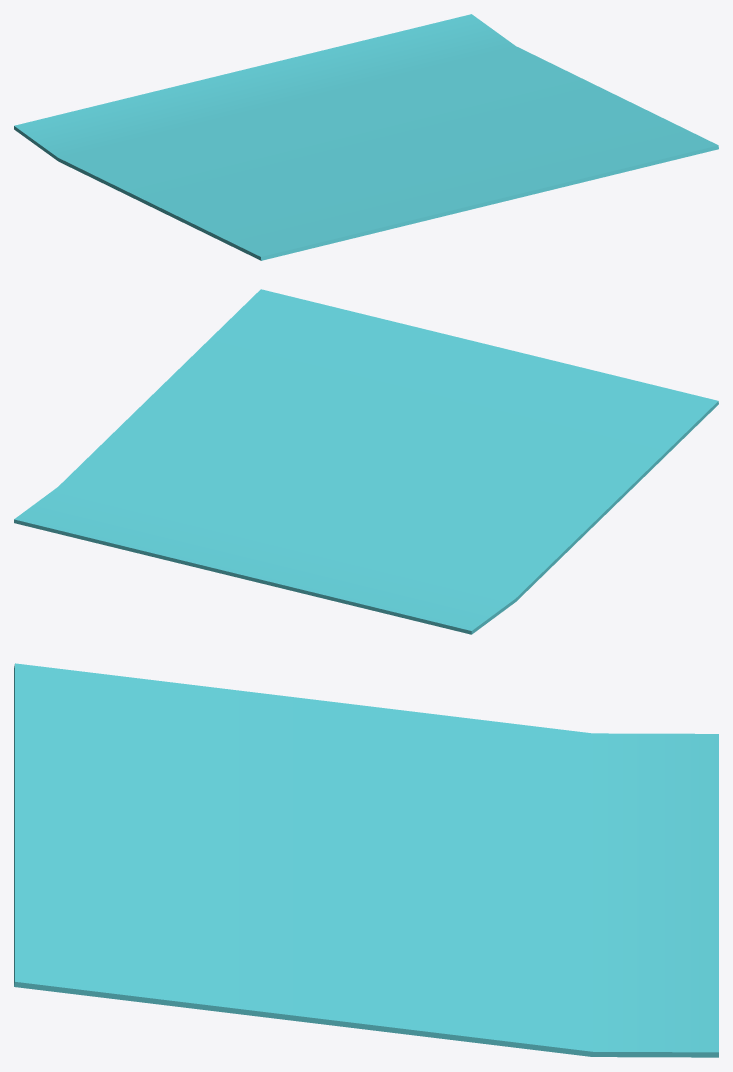
File: Post_it.fbx
The picture shows the model from 3 angles, top to bottom: view 1: azimuth 30°, elevation 25°; view 2: azimuth 150°, elevation 25°; view 3: azimuth 270°, elevation 25°; orthographic projection. The views are drawn at different scales.
Visible parts, largest first — view 1: pCube1; view 2: pCube1; view 3: pCube1.
Boxes of the visible parts, x1,y1,x2,y2 form: pCube1: (14, 14, 718, 260); pCube1: (14, 289, 718, 634); pCube1: (14, 663, 718, 1057).
Bounding box in the file's own units: 7.57 × 0.8403 × 7.08.
